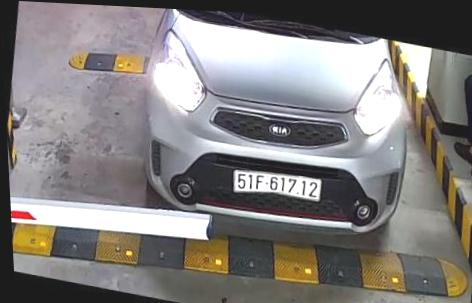License_Plate: (231, 165, 326, 208)
